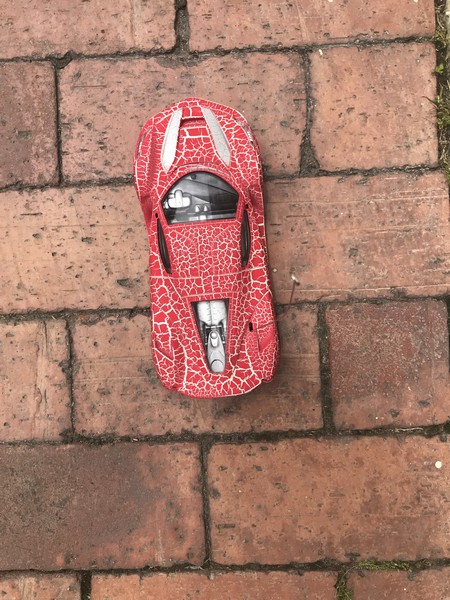RC: (131, 94, 281, 402)
